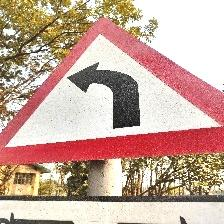Left-Turn: (0, 16, 222, 164)
